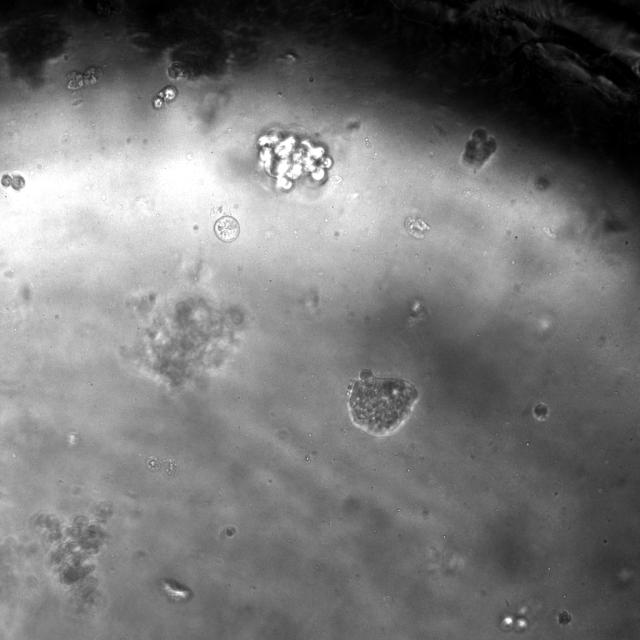organoid: (0, 505, 111, 639), (131, 292, 245, 388), (257, 128, 332, 191), (348, 369, 418, 436), (461, 127, 497, 171), (68, 67, 101, 90), (146, 455, 178, 478), (500, 606, 529, 631), (214, 216, 239, 242), (152, 85, 178, 109), (404, 215, 430, 237), (0, 174, 24, 190), (532, 401, 550, 421), (168, 61, 187, 78), (558, 611, 571, 624)
